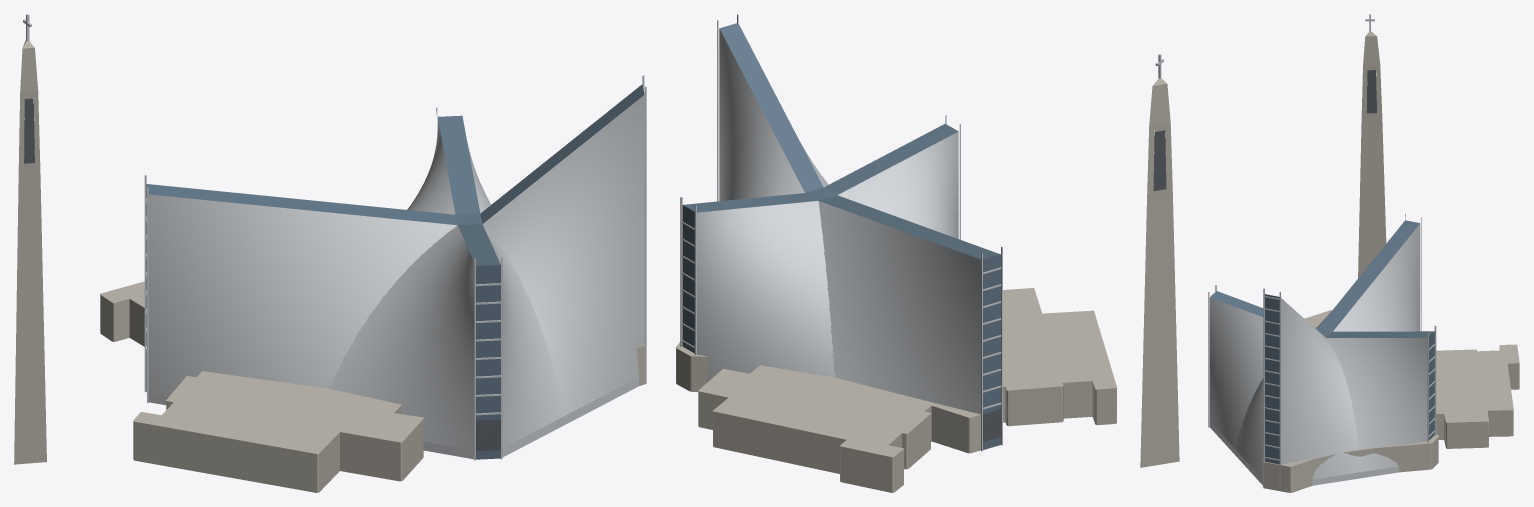
Rendered from tokyo-st-marys-cathedral.detail.glb.
3 views of the same model, side by side, from view 1: azimuth 30°, elevation 25°; view 2: azimuth 150°, elevation 25°; view 3: azimuth 270°, elevation 25° (orthographic). The views are drawn at different scales.
Visible parts, largest first — view 1: St. Mary's Cathedral, Tokyo; view 2: St. Mary's Cathedral, Tokyo; view 3: St. Mary's Cathedral, Tokyo.
Part boxes in pixels (x1,y1,x2,y2): St. Mary's Cathedral, Tokyo: (14,14,646,492); St. Mary's Cathedral, Tokyo: (675,14,1179,492); St. Mary's Cathedral, Tokyo: (1208,14,1519,492).
Size of the model in its own units: 84.44 by 62.4 by 59.31.
